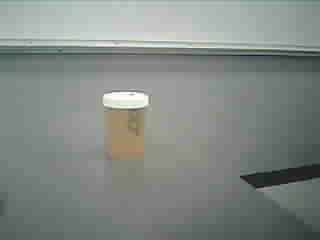Bottle B: (96, 86, 157, 166)
